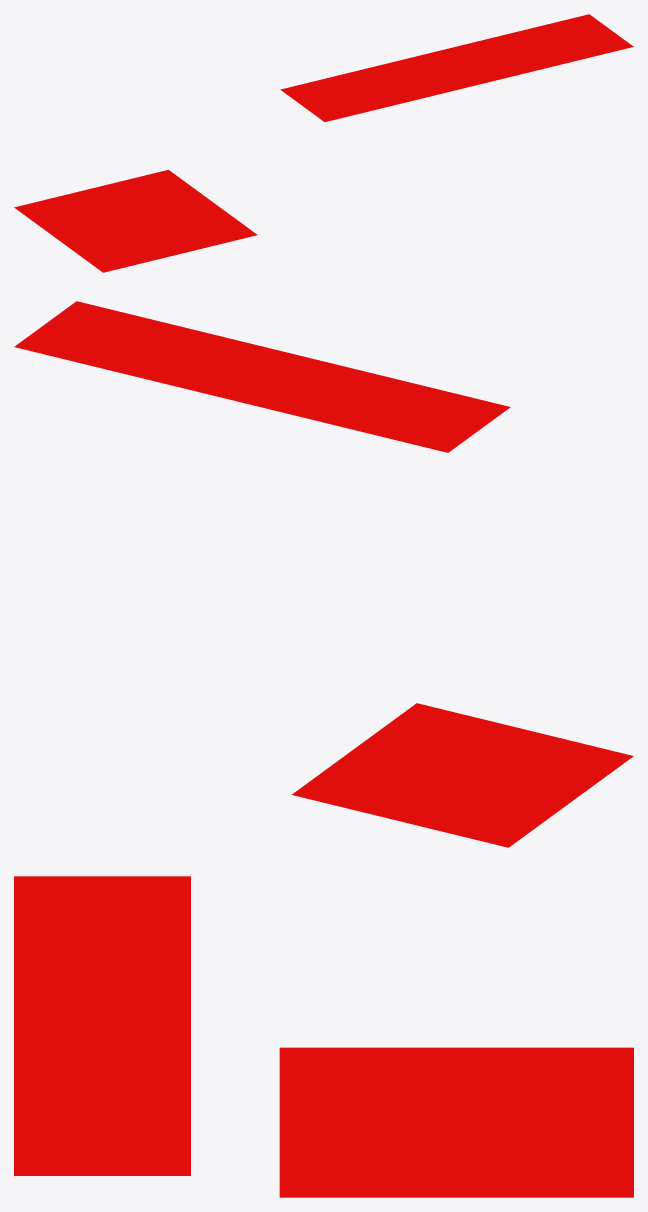
3 views of the same model, one above another, from view 1: azimuth 30°, elevation 25°; view 2: azimuth 150°, elevation 25°; view 3: azimuth 270°, elevation 25° (orthographic). The views are drawn at different scales.
Parts seen in each view (by area): view 1: NegativeScaleChild, SecondInstance; view 2: NegativeScaleChild, SecondInstance; view 3: SecondInstance, NegativeScaleChild.
Part boxes in pixels (x1,y1,x2,y2): NegativeScaleChild: (280,14,633,121); SecondInstance: (14,170,257,272); NegativeScaleChild: (14,301,510,452); SecondInstance: (292,703,633,847); SecondInstance: (279,1047,633,1197); NegativeScaleChild: (14,876,190,1175).
Size of the model in its own units: 6 by 2 by 3.5.
